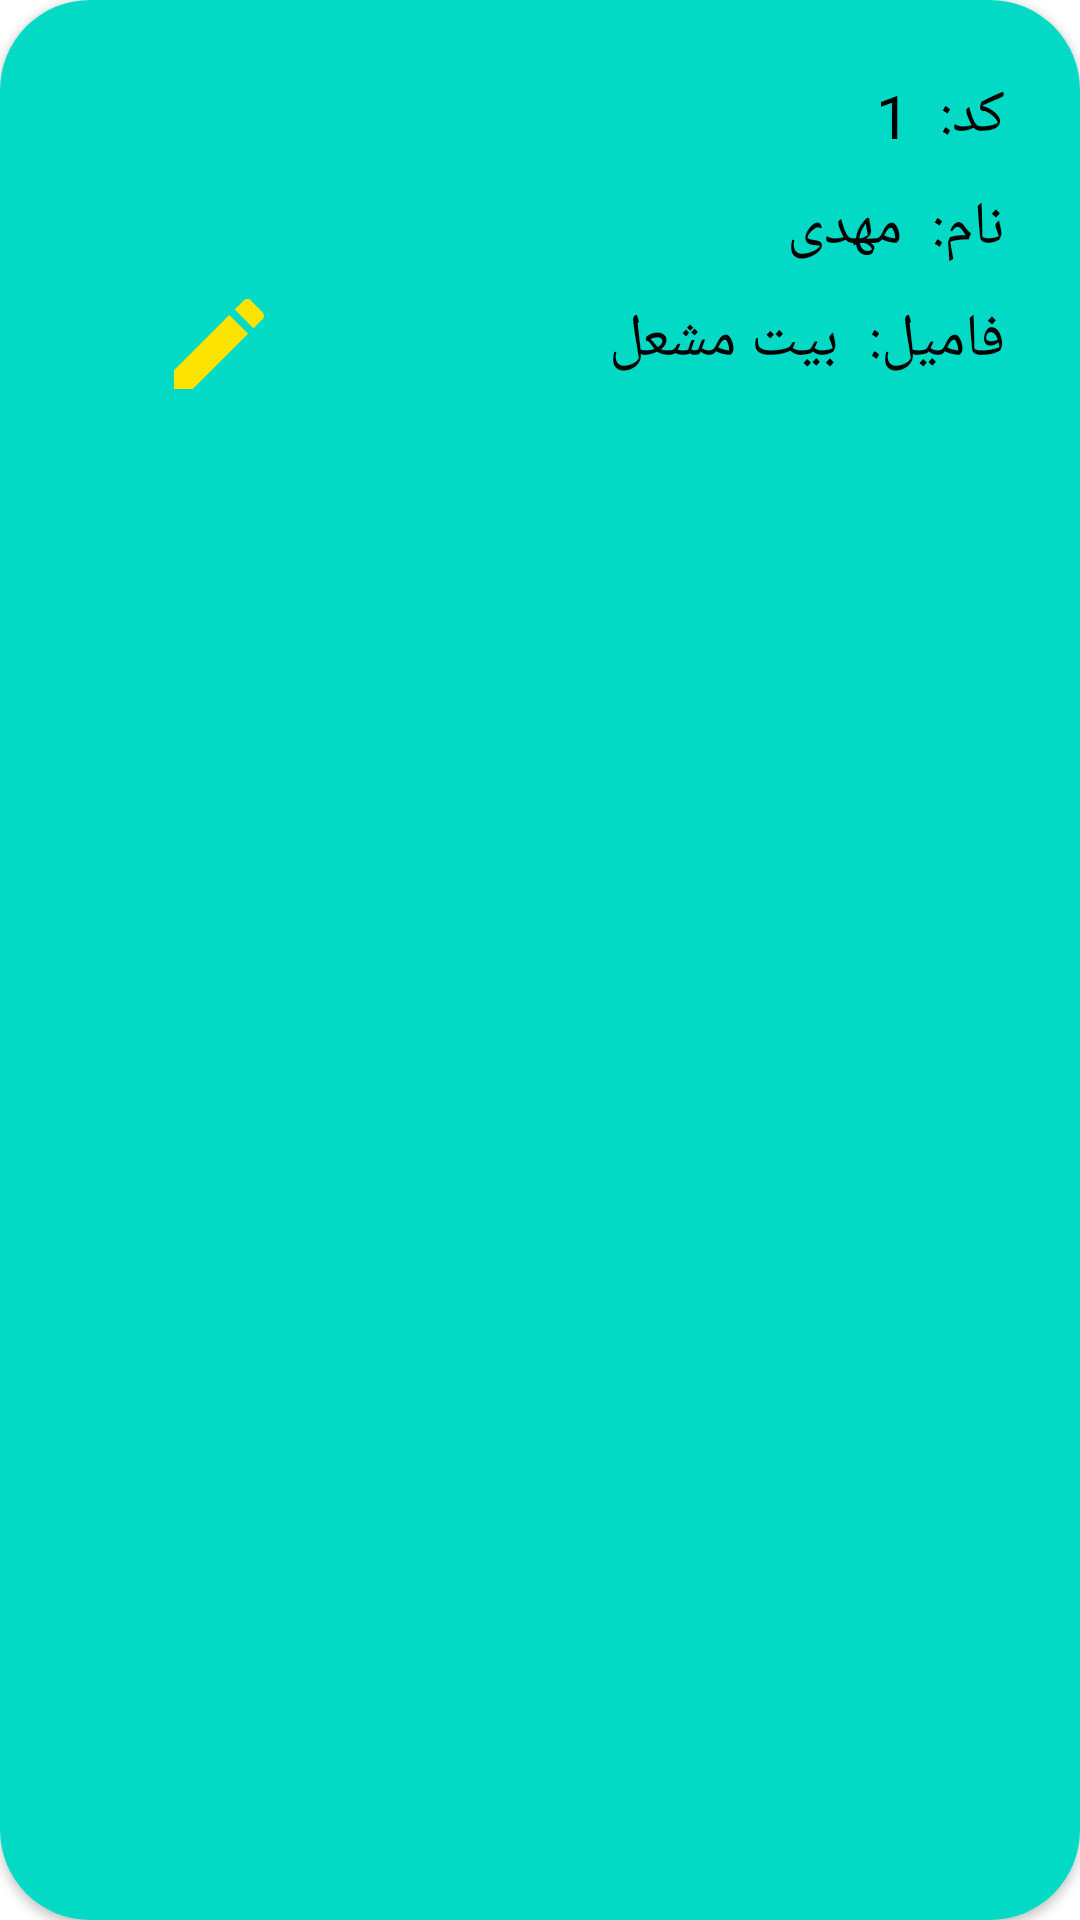

Named icons in this screenshot (1080px x 1920px) and their centers, (x=x, y=y):
edit: (x=219, y=344)
